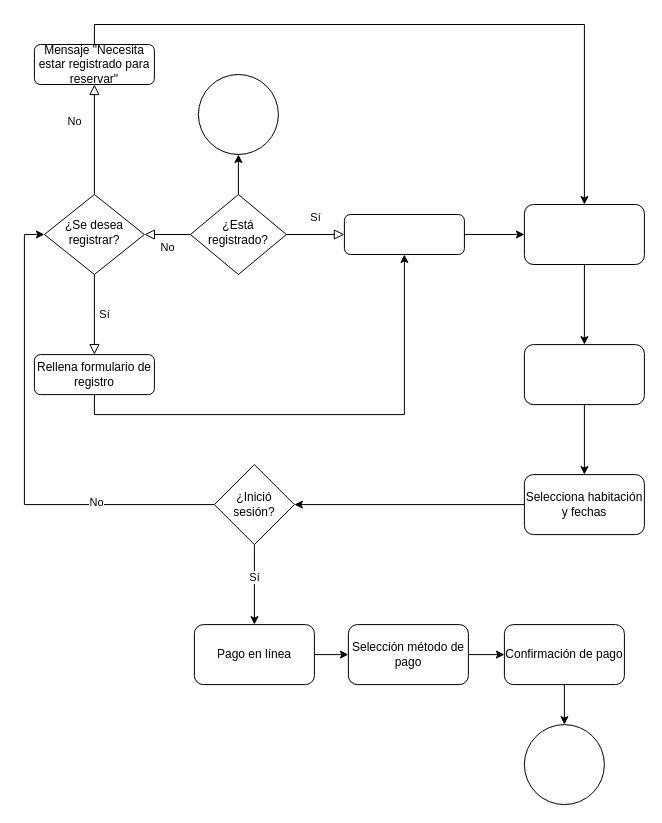
This 662x823 diagram has some shape labels left out. Here are the shapes that lost their labels. From the top down, the centre of each, then its label:
the point at 237,114: Usuario abre la aplicación
the point at 403,234: Inicia sesión
the point at 583,234: Visualiza catálogo de habitaciones
the point at 583,374: Filtra por precio, categoría y/o fechas disponibles
the point at 563,764: Se genera comprobante de reserva
